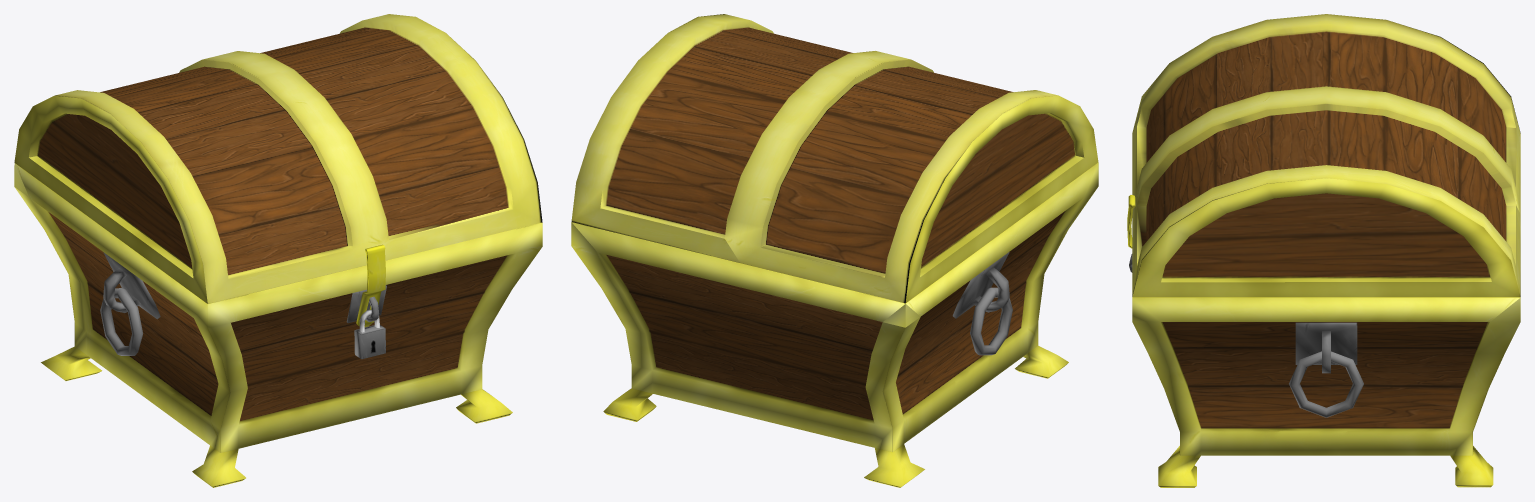
Rendered from Treasure Chest 1.fbx.
3 renders of one model, left to right at view 1: azimuth 30°, elevation 25°; view 2: azimuth 150°, elevation 25°; view 3: azimuth 270°, elevation 25°, orthographic.
Visible parts, largest first — view 1: Cover, Chest, Handle_Base_Left, Handle_Left, Hinge, Lock, Lock_Base; view 2: Cover, Chest, Handle_Base_Left, Handle_Left; view 3: Cover, Chest, Handle_Base_Right, Handle_Right.
Boxes of the visible parts, x1,y1,x2,y2 form: Cover: (14,14,542,303); Chest: (14,163,542,487); Handle_Base_Left: (103,252,160,319); Handle_Left: (100,288,143,355); Hinge: (356,244,385,327); Lock: (354,310,385,359); Lock_Base: (346,285,386,323); Cover: (571,14,1098,303); Chest: (571,162,1098,487); Handle_Base_Left: (952,252,1009,318); Handle_Left: (970,287,1012,355); Cover: (1132,14,1520,297); Chest: (1132,297,1520,487); Handle_Base_Right: (1295,322,1357,373); Handle_Right: (1289,351,1363,417).
Bounding box in the file's own units: 1.55 × 1.36 × 1.52.
1 material, 1 textured.
